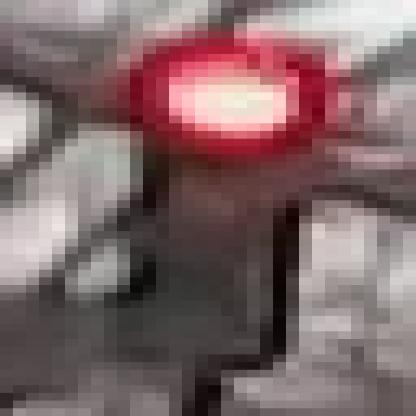Red Light: (123, 29, 319, 367)
